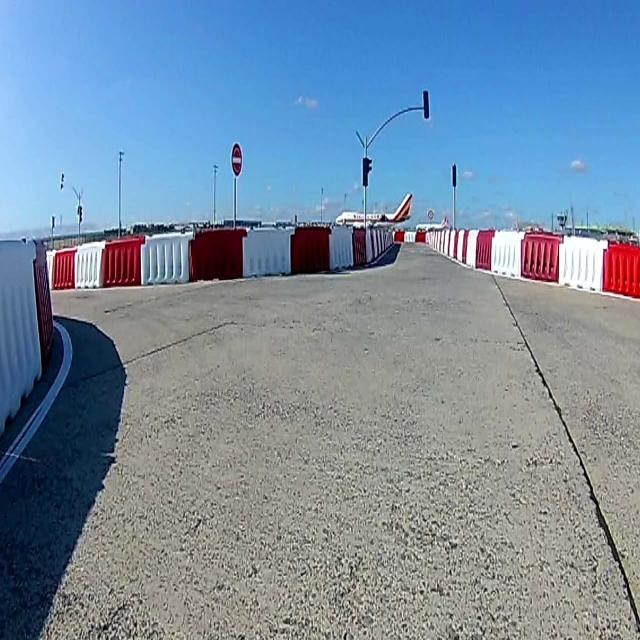girisyok: (231, 143, 243, 176)
